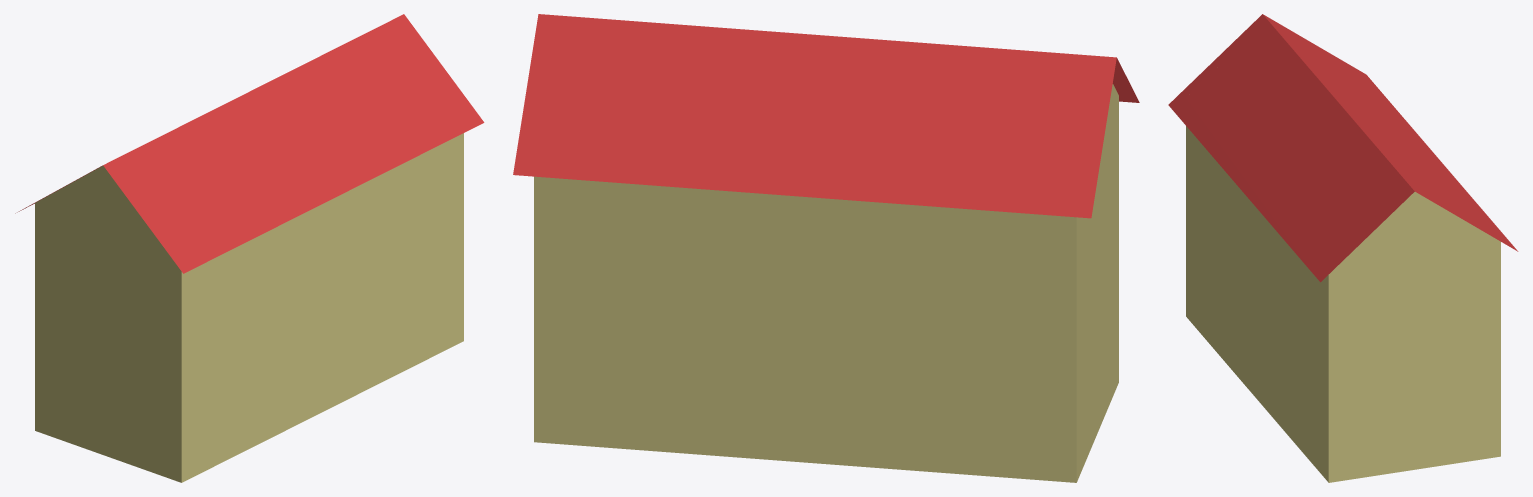
The picture shows the model from 3 angles, left to right: view 1: azimuth 30°, elevation 25°; view 2: azimuth 150°, elevation 25°; view 3: azimuth 270°, elevation 25°; orthographic projection. The views are drawn at different scales.
Parts seen in each view (by area): view 1: group_5, group_3, group_4; view 2: group_5, group_3, group_4; view 3: group_5, group_3, group_4.
Boxes of the visible parts, left/top/right/bottom form: group_5: left=35, top=133, right=463, bottom=482; group_3: left=83, top=14, right=483, bottom=267; group_4: left=15, top=14, right=483, bottom=273; group_5: left=534, top=84, right=1118, bottom=482; group_3: left=513, top=14, right=1139, bottom=218; group_4: left=803, top=56, right=1116, bottom=206; group_5: left=1186, top=126, right=1500, bottom=482; group_3: left=1186, top=14, right=1518, bottom=282; group_4: left=1168, top=14, right=1414, bottom=281.
Size of the model in its own units: 26.71 by 19.03 by 17.04.
